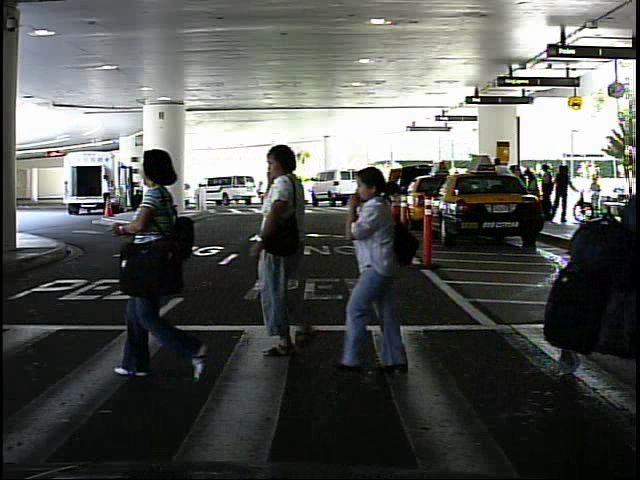person: (102, 136, 218, 384), (333, 160, 442, 381), (240, 139, 345, 361), (588, 172, 607, 214), (99, 172, 117, 195), (255, 177, 266, 204)
